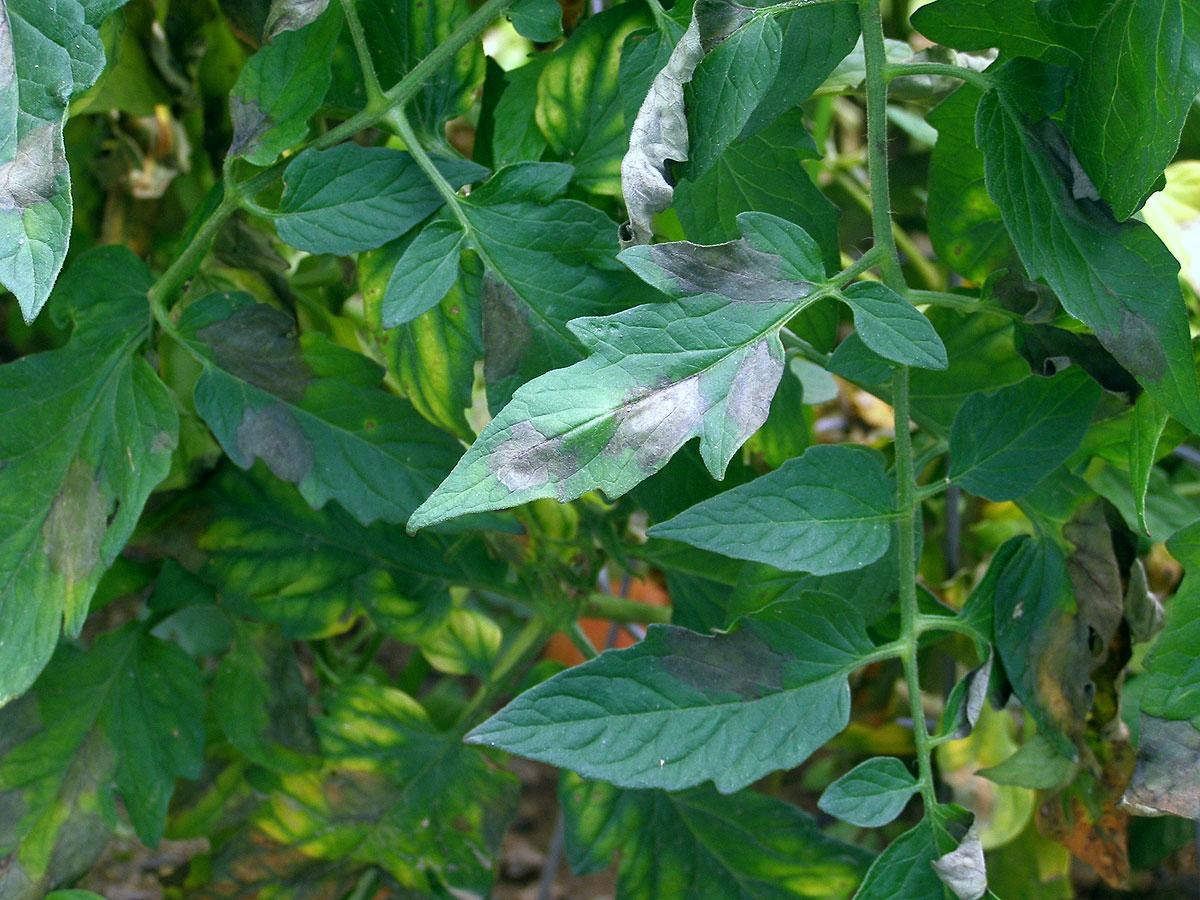Tomato leaf late blight: (412, 236, 844, 518), (968, 61, 1199, 469), (0, 230, 190, 710), (452, 610, 888, 799), (176, 278, 487, 522), (991, 508, 1084, 752), (215, 10, 348, 178)
